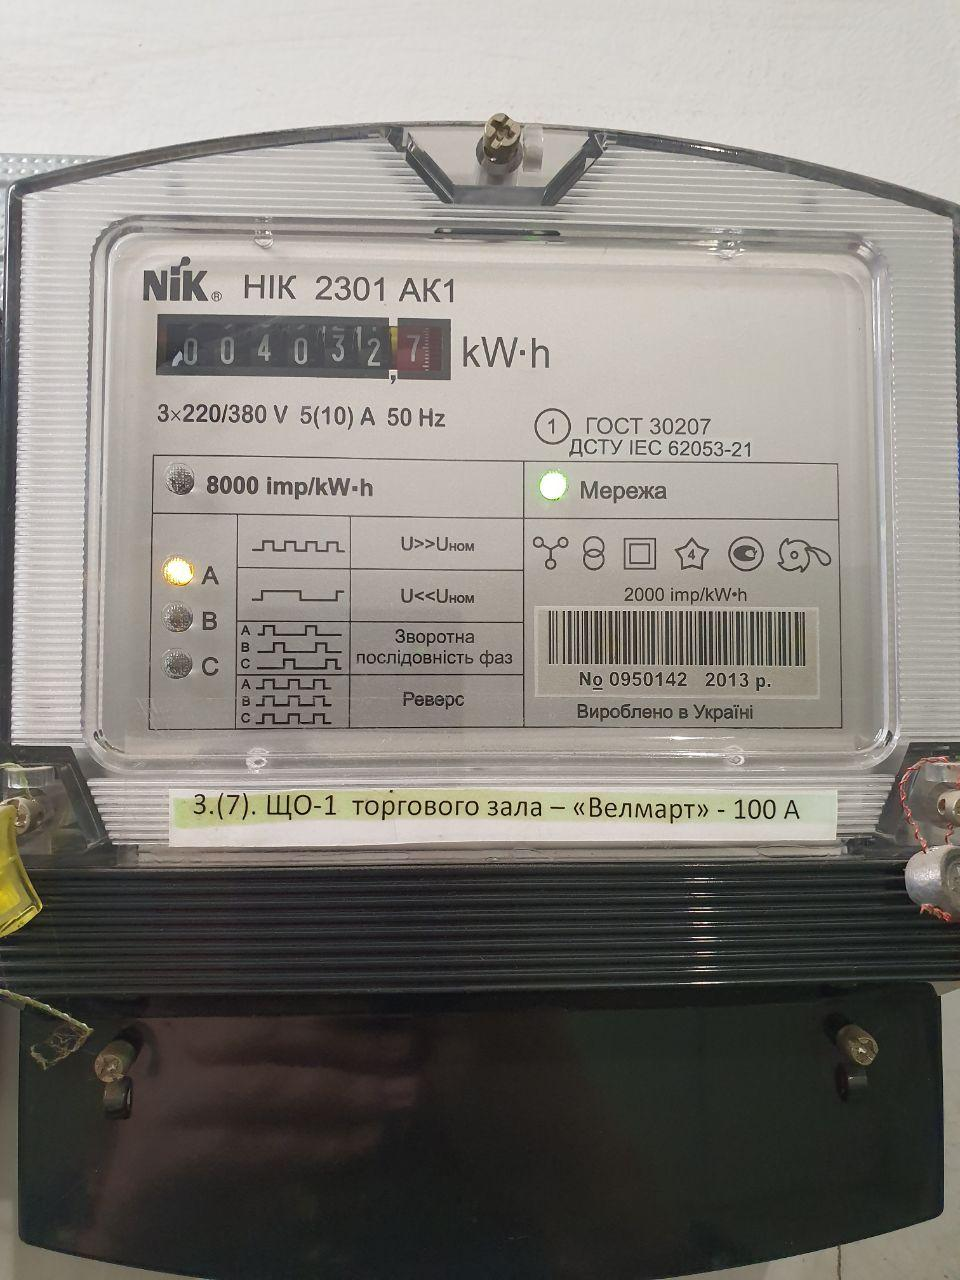0: (217, 334, 237, 367), (181, 334, 200, 367), (291, 334, 310, 367)
2: (365, 335, 383, 369)
3: (329, 332, 347, 364)
4: (254, 331, 274, 367)
7: (406, 332, 423, 365)
screen: (146, 306, 460, 393)
